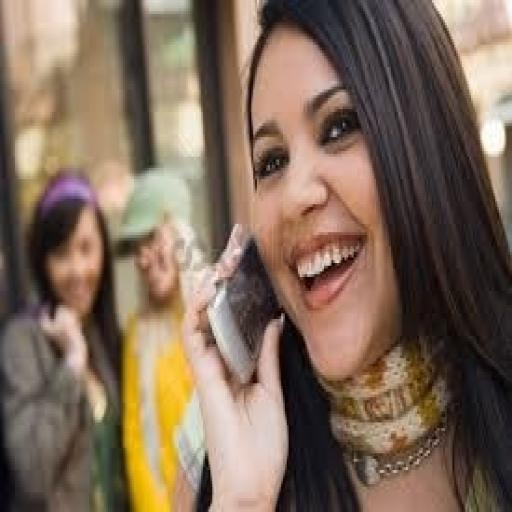laughing: (167, 0, 508, 506)
